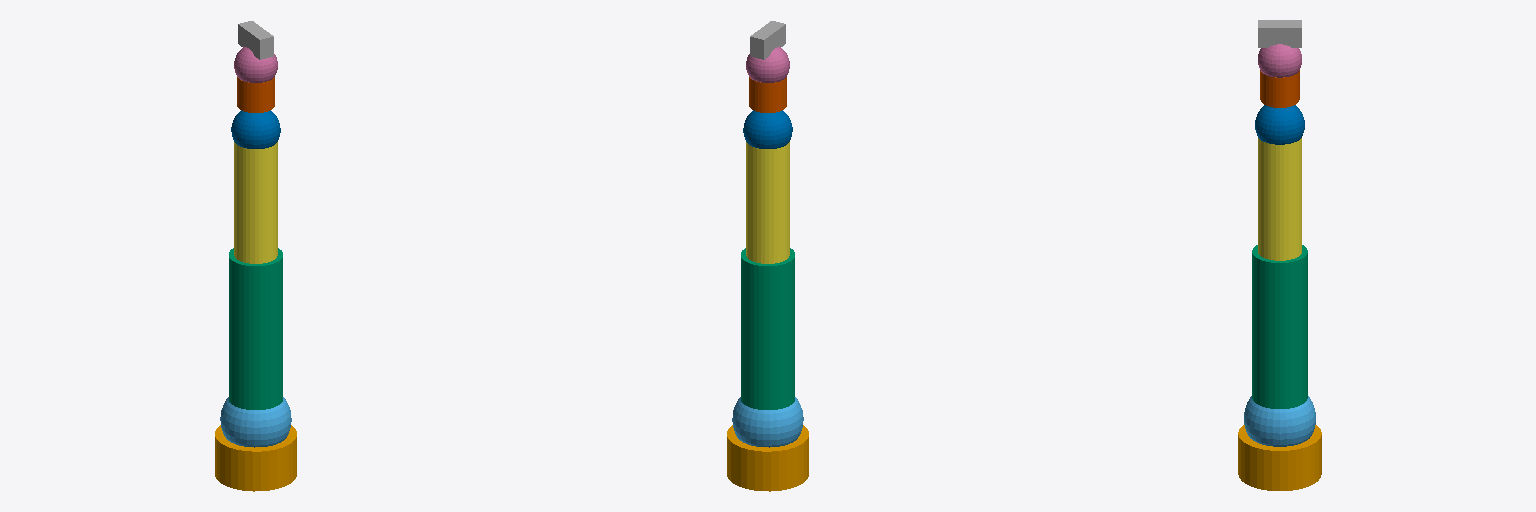
The robot description file, URDF, robot "simple_arm":
<?xml version="1.0"?>
<!-- A primitive-only 6-DOF arm used by the botrail examples.
     No mesh assets required, so it works straight from a checkout. -->
<robot name="simple_arm">

  <link name="base_link">
    <visual>
      <origin xyz="0 0 0.04"/>
      <geometry><cylinder radius="0.075" length="0.08"/></geometry>
    </visual>
  </link>

  <joint name="shoulder_pan" type="revolute">
    <parent link="base_link"/>
    <child link="shoulder_link"/>
    <origin xyz="0 0 0.08"/>
    <axis xyz="0 0 1"/>
    <limit lower="-3.1416" upper="3.1416" effort="50" velocity="2.0"/>
  </joint>

  <link name="shoulder_link">
    <visual>
      <origin xyz="0 0 0.03"/>
      <geometry><sphere radius="0.065"/></geometry>
    </visual>
  </link>

  <joint name="shoulder_lift" type="revolute">
    <parent link="shoulder_link"/>
    <child link="upper_arm_link"/>
    <origin xyz="0 0 0.06"/>
    <axis xyz="0 1 0"/>
    <limit lower="-2.2" upper="2.2" effort="50" velocity="2.0"/>
  </joint>

  <link name="upper_arm_link">
    <visual>
      <origin xyz="0 0 0.15"/>
      <geometry><cylinder radius="0.05" length="0.30"/></geometry>
    </visual>
  </link>

  <joint name="elbow" type="revolute">
    <parent link="upper_arm_link"/>
    <child link="forearm_link"/>
    <origin xyz="0 0 0.30"/>
    <axis xyz="0 1 0"/>
    <limit lower="-2.6" upper="2.6" effort="30" velocity="2.5"/>
  </joint>

  <link name="forearm_link">
    <visual>
      <origin xyz="0 0 0.125"/>
      <geometry><cylinder radius="0.04" length="0.25"/></geometry>
    </visual>
  </link>

  <joint name="wrist_1" type="revolute">
    <parent link="forearm_link"/>
    <child link="wrist_1_link"/>
    <origin xyz="0 0 0.25"/>
    <axis xyz="0 1 0"/>
    <limit lower="-3.1416" upper="3.1416" effort="10" velocity="3.0"/>
  </joint>

  <link name="wrist_1_link">
    <visual>
      <geometry><sphere radius="0.045"/></geometry>
    </visual>
  </link>

  <joint name="wrist_2" type="revolute">
    <parent link="wrist_1_link"/>
    <child link="wrist_2_link"/>
    <origin xyz="0 0 0.05"/>
    <axis xyz="0 0 1"/>
    <limit lower="-3.1416" upper="3.1416" effort="10" velocity="3.0"/>
  </joint>

  <link name="wrist_2_link">
    <visual>
      <origin xyz="0 0 0.03"/>
      <geometry><cylinder radius="0.035" length="0.06"/></geometry>
    </visual>
  </link>

  <joint name="wrist_3" type="revolute">
    <parent link="wrist_2_link"/>
    <child link="wrist_3_link"/>
    <origin xyz="0 0 0.06"/>
    <axis xyz="0 1 0"/>
    <limit lower="-3.1416" upper="3.1416" effort="10" velocity="3.0"/>
  </joint>

  <link name="wrist_3_link">
    <visual>
      <origin xyz="0 0 0.02"/>
      <geometry><sphere radius="0.04"/></geometry>
    </visual>
  </link>

  <joint name="tool_mount" type="fixed">
    <parent link="wrist_3_link"/>
    <child link="tool0"/>
    <origin xyz="0 0 0.05"/>
  </joint>

  <link name="tool0">
    <visual>
      <origin xyz="0 0 0.02"/>
      <geometry><box size="0.03 0.08 0.04"/></geometry>
    </visual>
  </link>

</robot>

--- What the picture shows (computed from the rendered views, not written in the file) ---
The picture shows the robot from 3 angles, left to right: view 1: azimuth 30°, elevation 25°; view 2: azimuth 150°, elevation 25°; view 3: azimuth 270°, elevation 25°; orthographic projection.
Model simple_arm with 8 links and 7 joints (6 revolute, 1 fixed), rooted at base_link, posed all joints at 0.
Visible links, largest first — view 1: upper_arm_link, forearm_link, base_link, shoulder_link, wrist_1_link, wrist_2_link, wrist_3_link, tool0; view 2: upper_arm_link, forearm_link, base_link, shoulder_link, wrist_1_link, wrist_2_link, wrist_3_link, tool0; view 3: upper_arm_link, forearm_link, base_link, shoulder_link, wrist_1_link, wrist_3_link, wrist_2_link, tool0.
Link boxes in pixels (bbox=[...]): upper_arm_link: bbox=[229, 248, 282, 409]; forearm_link: bbox=[234, 142, 277, 263]; base_link: bbox=[215, 425, 296, 491]; shoulder_link: bbox=[220, 397, 291, 447]; wrist_1_link: bbox=[231, 110, 280, 148]; wrist_2_link: bbox=[237, 77, 274, 112]; wrist_3_link: bbox=[234, 47, 277, 82]; tool0: bbox=[238, 21, 273, 59]; upper_arm_link: bbox=[741, 248, 794, 409]; forearm_link: bbox=[746, 142, 789, 263]; base_link: bbox=[727, 425, 808, 491]; shoulder_link: bbox=[732, 397, 803, 447]; wrist_1_link: bbox=[743, 110, 792, 148]; wrist_2_link: bbox=[749, 77, 786, 112]; wrist_3_link: bbox=[746, 47, 789, 82]; tool0: bbox=[750, 21, 785, 59]; upper_arm_link: bbox=[1252, 245, 1307, 408]; forearm_link: bbox=[1258, 138, 1301, 260]; base_link: bbox=[1238, 425, 1321, 490]; shoulder_link: bbox=[1244, 396, 1315, 446]; wrist_1_link: bbox=[1255, 105, 1304, 144]; wrist_3_link: bbox=[1258, 44, 1301, 77]; wrist_2_link: bbox=[1260, 70, 1299, 107]; tool0: bbox=[1258, 20, 1301, 47].
Size in the robot's own frame: 0.15 by 0.15 by 0.89 metres.
Geometry: primitives only (box / cylinder / sphere), no mesh files.
